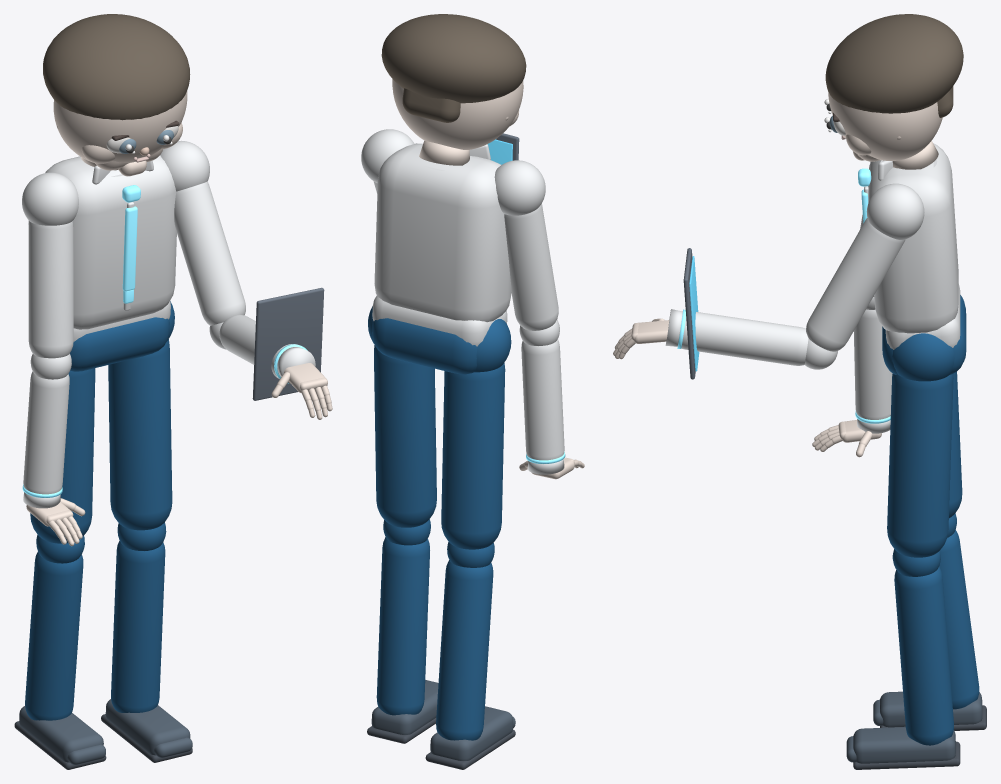
The model's file is lead-figure-stand-tablet.glb.
3 views of the same model, side by side, from view 1: azimuth 30°, elevation 25°; view 2: azimuth 150°, elevation 25°; view 3: azimuth 270°, elevation 25° (orthographic).
Parts seen in each view (by area): view 1: Shirt, Hair, UpperLeg_R, LowerLeg_R, LowerLeg_L, UpperArm_R, UpperArm_L, TabletBody, UpperLeg_L, ForeArm_L, Head, Pelvis (+12 smaller); view 2: Shirt, UpperLeg_L, Hair, UpperLeg_R, LowerLeg_L, LowerLeg_R, UpperArm_L, ForeArm_L, Head, Pelvis, Shoulder_L, ShirtTail (+13 smaller); view 3: Hair, UpperLeg_R, Shirt, LowerLeg_R, UpperArm_R, ForeArm_R, LowerLeg_L, Head, ForeArm_L, Foot_R, Shoulder_R, Hip_R (+10 smaller).
Boxes of the visible parts, left/top/right/bottom form: Shirt: left=45, top=155, right=176, bottom=329; Hair: left=43, top=14, right=190, bottom=120; UpperLeg_R: left=108, top=339, right=172, bottom=530; LowerLeg_R: left=111, top=540, right=165, bottom=712; LowerLeg_L: left=25, top=552, right=83, bottom=720; UpperArm_R: left=174, top=181, right=245, bottom=325; UpperArm_L: left=28, top=220, right=73, bottom=358; TabletBody: left=252, top=287, right=324, bottom=400; UpperLeg_L: left=30, top=368, right=95, bottom=543; ForeArm_L: left=23, top=371, right=69, bottom=494; Head: left=53, top=90, right=187, bottom=162; Pelvis: left=70, top=317, right=169, bottom=371; Shirt: left=374, top=143, right=511, bottom=322; UpperLeg_L: left=441, top=362, right=505, bottom=549; Hair: left=381, top=14, right=526, bottom=103; UpperLeg_R: left=374, top=345, right=436, bottom=527; LowerLeg_L: left=436, top=560, right=493, bottom=740; LowerLeg_R: left=376, top=537, right=429, bottom=715; UpperArm_L: left=504, top=203, right=558, bottom=330; ForeArm_L: left=521, top=339, right=564, bottom=460; Head: left=392, top=79, right=523, bottom=149; Pelvis: left=372, top=318, right=477, bottom=374; Shoulder_L: left=494, top=160, right=545, bottom=215; ShirtTail: left=372, top=296, right=507, bottom=346; Hair: left=825, top=14, right=963, bottom=113; UpperLeg_R: left=887, top=374, right=953, bottom=557; Shirt: left=868, top=143, right=958, bottom=333; LowerLeg_R: left=894, top=566, right=953, bottom=745; UpperArm_R: left=806, top=218, right=905, bottom=351; ForeArm_R: left=677, top=311, right=808, bottom=365; LowerLeg_L: left=939, top=530, right=979, bottom=709; Head: left=828, top=91, right=942, bottom=160; ForeArm_L: left=853, top=309, right=892, bottom=419; Foot_R: left=853, top=727, right=955, bottom=763; Shoulder_R: left=866, top=183, right=924, bottom=240; Hip_R: left=892, top=333, right=954, bottom=381.
Size of the model in its own units: 0.5001 by 1.7 by 0.8029.
